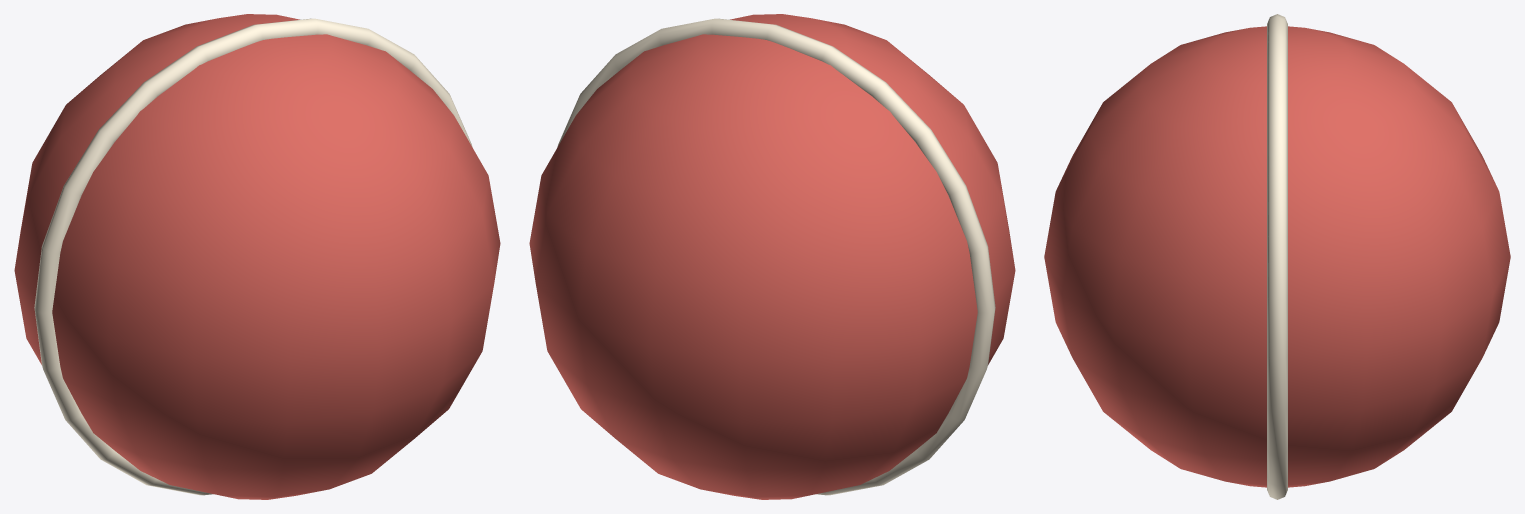
The model's file is word-ball.glb.
3 views of the same model, side by side, from view 1: azimuth 30°, elevation 25°; view 2: azimuth 150°, elevation 25°; view 3: azimuth 270°, elevation 25° (orthographic). The views are drawn at different scales.
Parts seen in each view (by area): view 1: ball, ball seam; view 2: ball, ball seam; view 3: ball, ball seam.
Part boxes in pixels (box(x1,y1,x2,y2)): ball: box(14, 14, 500, 499); ball seam: box(34, 18, 472, 495); ball: box(529, 14, 1015, 499); ball seam: box(557, 18, 995, 495); ball: box(1044, 26, 1510, 487); ball seam: box(1267, 14, 1287, 499).
Bounding box in the file's own units: 0.732 × 0.732 × 0.7.
